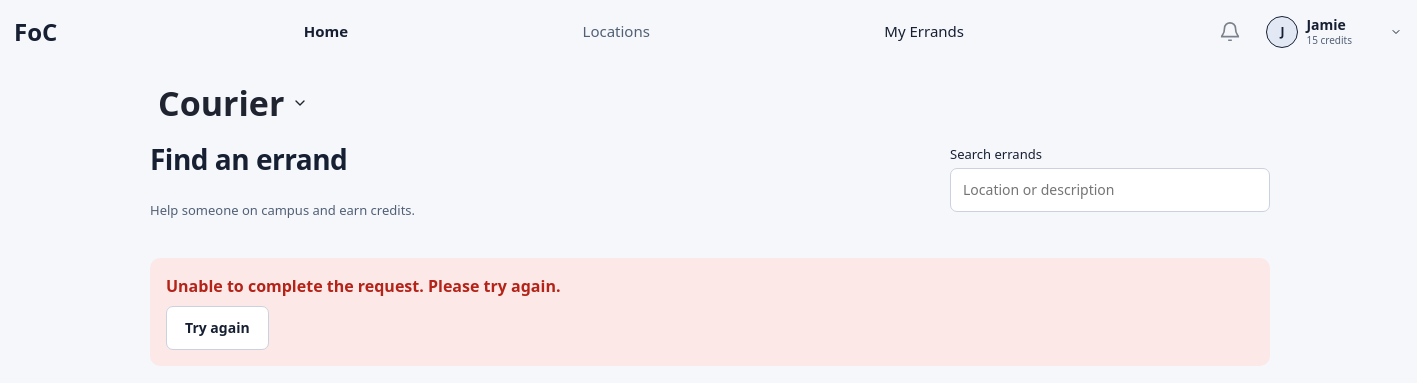
Test: retries a failed list and displays its empty state on /home?mode=courier
Check: the message "Unable to complete the request. Please try again. Try again" is shown, box [150,258,1270,366]
Click the button "Try again".
click(217, 328)  # box [166,306,269,350]
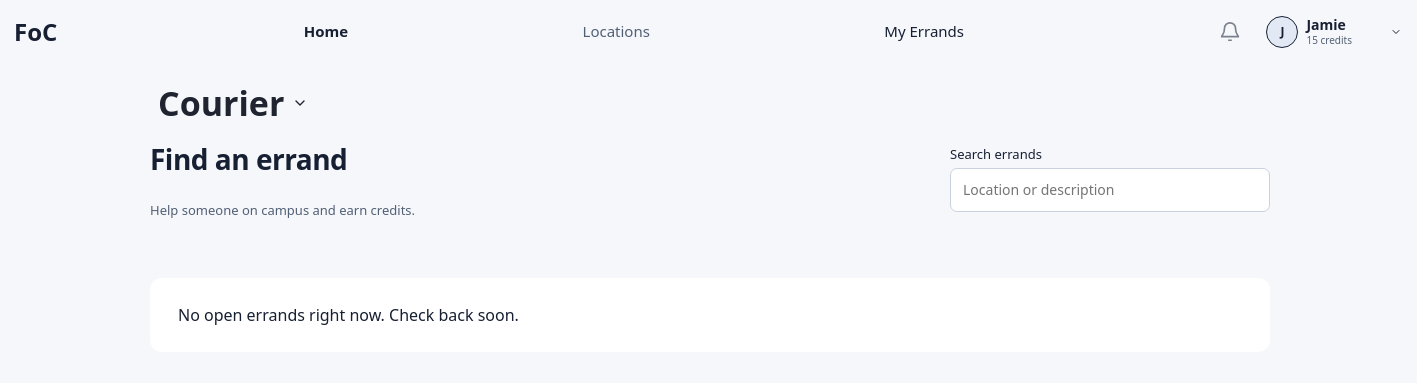
Check: the text "No open errands right now. Check back soon." is shown, box [150,278,1270,352]
